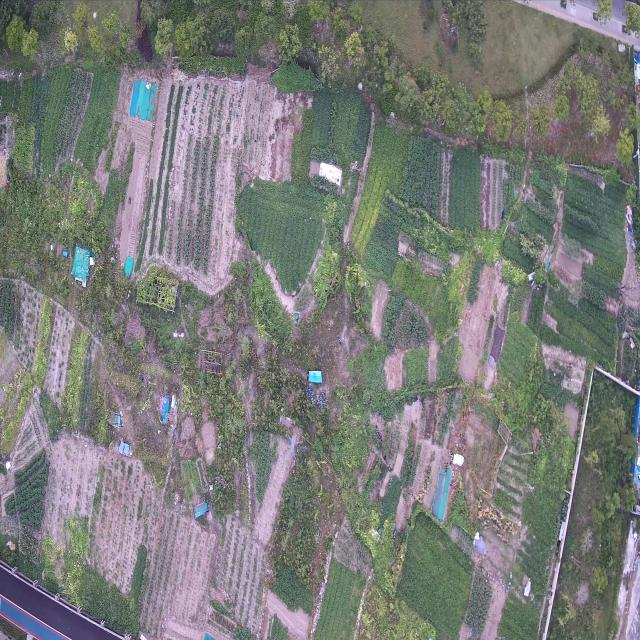UAV: (282, 429, 304, 466)
